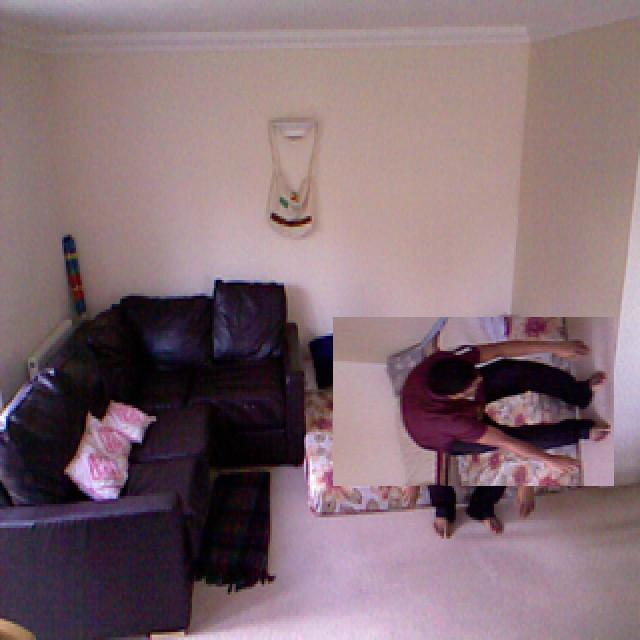NotFall: (360, 323, 635, 482)
